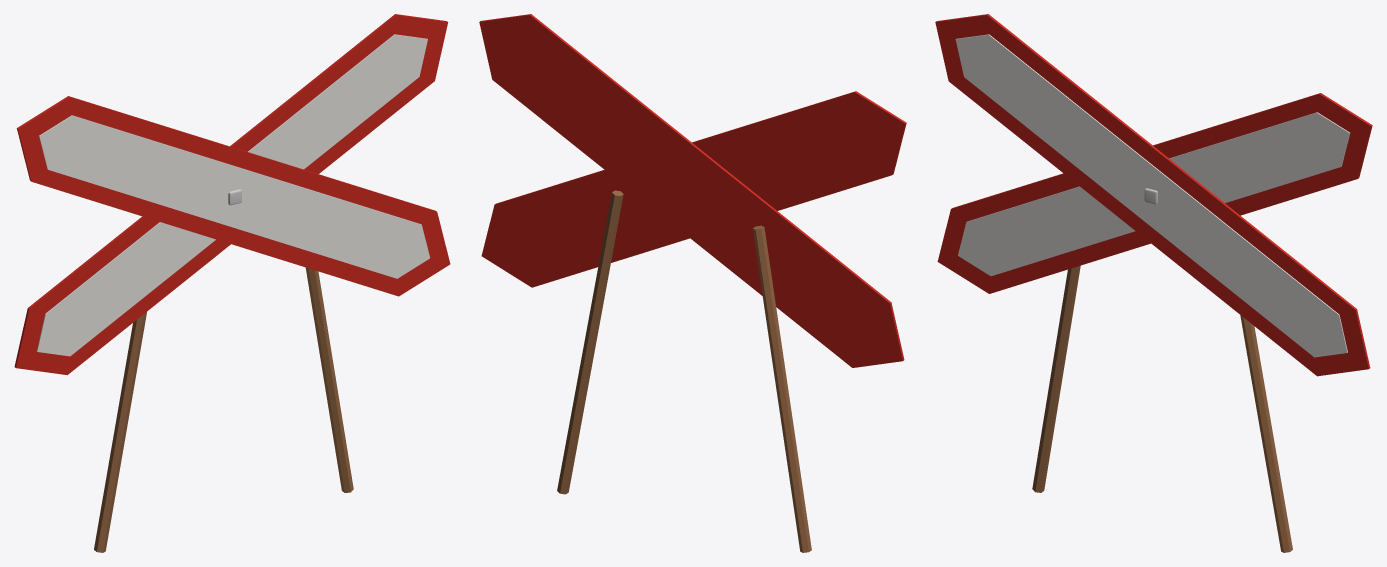
The model's file is rail.crossing.saltire.glb.
3 views of the same model, side by side, from view 1: azimuth 30°, elevation 25°; view 2: azimuth 150°, elevation 25°; view 3: azimuth 330°, elevation 25° (orthographic). The views are drawn at different scales.
Parts seen in each view (by area): view 1: main__paint_eee, main__paint_c22, main__paint_964; view 2: main__paint_c22, main__paint_964; view 3: main__paint_eee, main__paint_c22, main__paint_964.
Boxes of the visible parts, bbox=[...] form: main__paint_eee: bbox=[36, 34, 429, 356]; main__paint_c22: bbox=[14, 14, 450, 375]; main__paint_964: bbox=[94, 267, 353, 552]; main__paint_c22: bbox=[479, 14, 906, 367]; main__paint_964: bbox=[557, 190, 811, 552]; main__paint_eee: bbox=[955, 34, 1350, 357]; main__paint_c22: bbox=[935, 14, 1372, 376]; main__paint_964: bbox=[1032, 265, 1292, 552].
Size of the model in its own units: 1.32 by 1.38 by 0.082.
